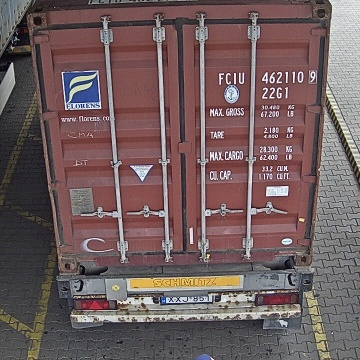serial_id: (219, 70, 317, 84)
